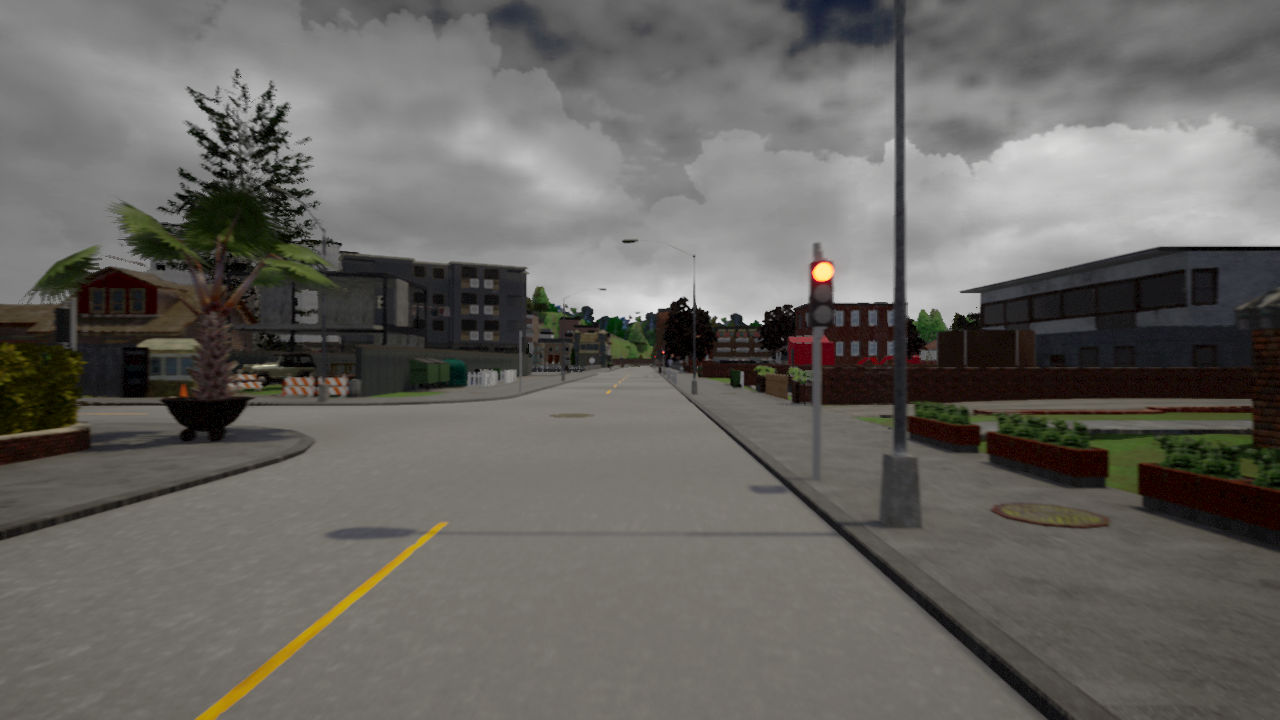red: (807, 261, 834, 331)
